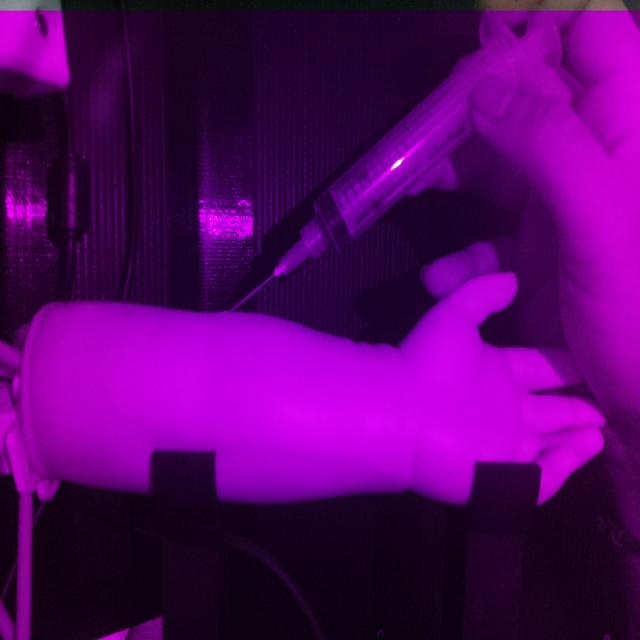Above 30 degrees: (226, 6, 564, 317)
